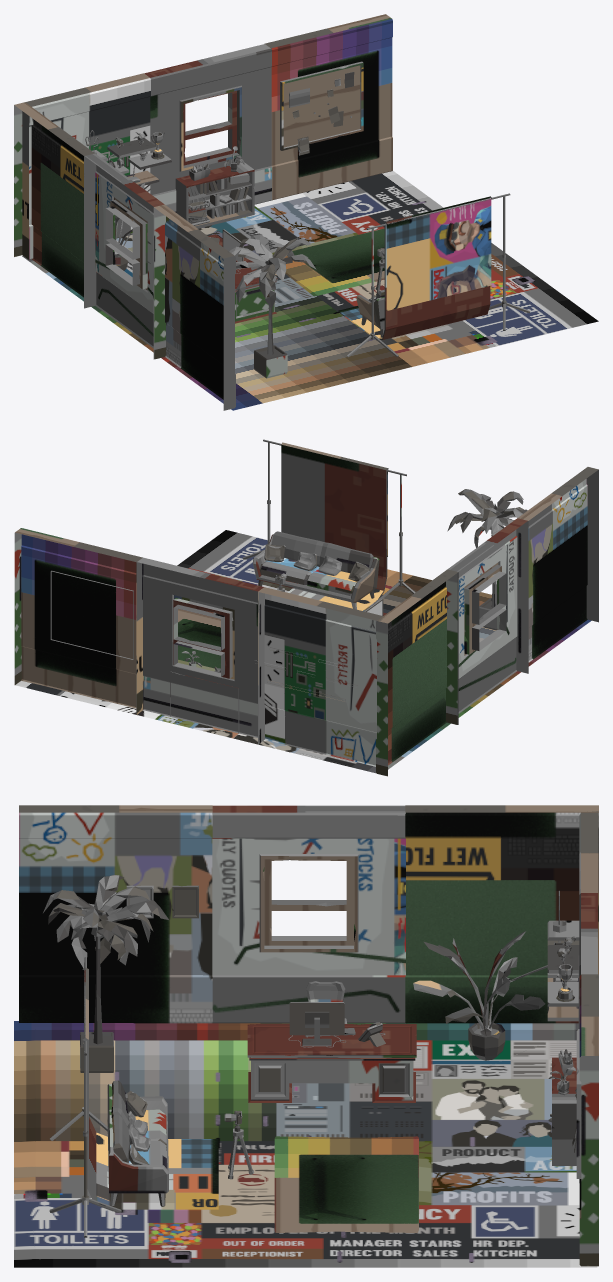
Rendered from office.gltf.
The picture shows the model from 3 angles, top to bottom: view 1: azimuth 30°, elevation 25°; view 2: azimuth 150°, elevation 25°; view 3: azimuth 270°, elevation 25°; orthographic projection. The views are drawn at different scales.
Visible parts, largest first — view 1: SM_Bld_Floor_Concrete_01.001, SM_Prop_GreenScreen_01, SM_Bld_Wall_Baseboard_01.009, SM_Bld_Wall_Baseboard_Window_01.001, SM_Bld_Wall_Baseboard_01.004, SM_Bld_Wall_Baseboard_01.003, SM_Bld_Wall_Baseboard_Window_01.002, SM_Bld_Wall_Baseboard_01.010, SM_Prop_CorkBoard_01, SM_Prop_Rug_01, SM_Prop_Plant_14, SM_Prop_Shelf_06 (+3 smaller); view 2: SM_Bld_Wall_Baseboard_01.009, SM_Bld_Wall_Baseboard_01.010, SM_Bld_Wall_Baseboard_Window_01.001, SM_Bld_Wall_Baseboard_01.003, SM_Prop_GreenScreen_01, SM_Bld_Wall_Baseboard_01.004, SM_Bld_Wall_Baseboard_Window_01.002, SM_Bld_Floor_Concrete_01.001, SM_Prop_Couch_03, SM_Prop_Plant_14, SM_Prop_Rug_01, SM_Prop_Couch_Pillows_01; view 3: SM_Bld_Floor_Concrete_01.001, SM_Bld_Wall_Baseboard_Window_01.002, SM_Bld_Wall_Baseboard_01.003, SM_Bld_Wall_Baseboard_01.004, SM_Prop_Rug_01, SM_Prop_Desk_03, SM_Prop_GreenScreen_01, SM_Prop_Plant_14, SM_Bld_Wall_Baseboard_01.009, SM_Prop_Couch_03, SM_Prop_Plant_12, SM_Prop_Shelf_Wall_02 (+9 smaller).
Part boxes in pixels (left/top/right/bottom): SM_Bld_Floor_Concrete_01.001: left=22, top=171, right=598, bottom=410; SM_Prop_GreenScreen_01: left=338, top=193, right=530, bottom=357; SM_Bld_Wall_Baseboard_01.009: left=264, top=14, right=392, bottom=200; SM_Bld_Wall_Baseboard_Window_01.001: left=144, top=44, right=271, bottom=212; SM_Bld_Wall_Baseboard_01.004: left=14, top=102, right=96, bottom=308; SM_Bld_Wall_Baseboard_01.003: left=153, top=204, right=235, bottom=410; SM_Bld_Wall_Baseboard_Window_01.002: left=85, top=153, right=165, bottom=359; SM_Bld_Wall_Baseboard_01.010: left=22, top=73, right=150, bottom=259; SM_Prop_CorkBoard_01: left=280, top=61, right=363, bottom=155; SM_Prop_Rug_01: left=285, top=228, right=384, bottom=296; SM_Prop_Plant_14: left=229, top=234, right=316, bottom=378; SM_Prop_Shelf_06: left=175, top=162, right=254, bottom=228; SM_Bld_Wall_Baseboard_01.009: left=14, top=528, right=143, bottom=714; SM_Bld_Wall_Baseboard_01.010: left=258, top=587, right=384, bottom=766; SM_Bld_Wall_Baseboard_Window_01.001: left=136, top=557, right=264, bottom=744; SM_Bld_Wall_Baseboard_01.003: left=516, top=467, right=598, bottom=673; SM_Prop_GreenScreen_01: left=243, top=439, right=415, bottom=610; SM_Bld_Wall_Baseboard_01.004: left=376, top=569, right=458, bottom=776; SM_Bld_Wall_Baseboard_Window_01.002: left=446, top=518, right=527, bottom=724; SM_Bld_Floor_Concrete_01.001: left=15, top=530, right=591, bottom=773; SM_Prop_Couch_03: left=253, top=531, right=379, bottom=609; SM_Prop_Plant_14: left=447, top=489, right=527, bottom=630; SM_Prop_Rug_01: left=178, top=609, right=220, bottom=668; SM_Prop_Couch_Pillows_01: left=264, top=544, right=371, bottom=581; SM_Bld_Floor_Concrete_01.001: left=14, top=1021, right=597, bottom=1267; SM_Bld_Wall_Baseboard_Window_01.002: left=212, top=805, right=405, bottom=1023; SM_Bld_Wall_Baseboard_01.003: left=19, top=805, right=212, bottom=1023; SM_Bld_Wall_Baseboard_01.004: left=405, top=805, right=598, bottom=1023; SM_Prop_Rug_01: left=274, top=1136, right=418, bottom=1232; SM_Prop_Desk_03: left=247, top=1024, right=416, bottom=1102; SM_Prop_GreenScreen_01: left=49, top=957, right=218, bottom=1237; SM_Prop_Plant_14: left=43, top=875, right=168, bottom=1072; SM_Bld_Wall_Baseboard_01.009: left=579, top=974, right=598, bottom=1266; SM_Prop_Couch_03: left=107, top=1080, right=168, bottom=1206; SM_Prop_Plant_12: left=413, top=931, right=547, bottom=1060; SM_Prop_Shelf_Wall_02: left=547, top=920, right=579, bottom=1021.
Size of the model in its own units: 7.69 by 3.01 by 7.55.
Materials: 2 (1 with a texture image).
